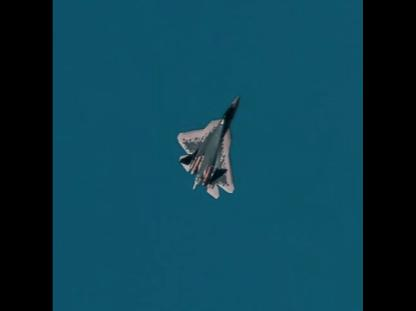SR71: (177, 94, 240, 198)
